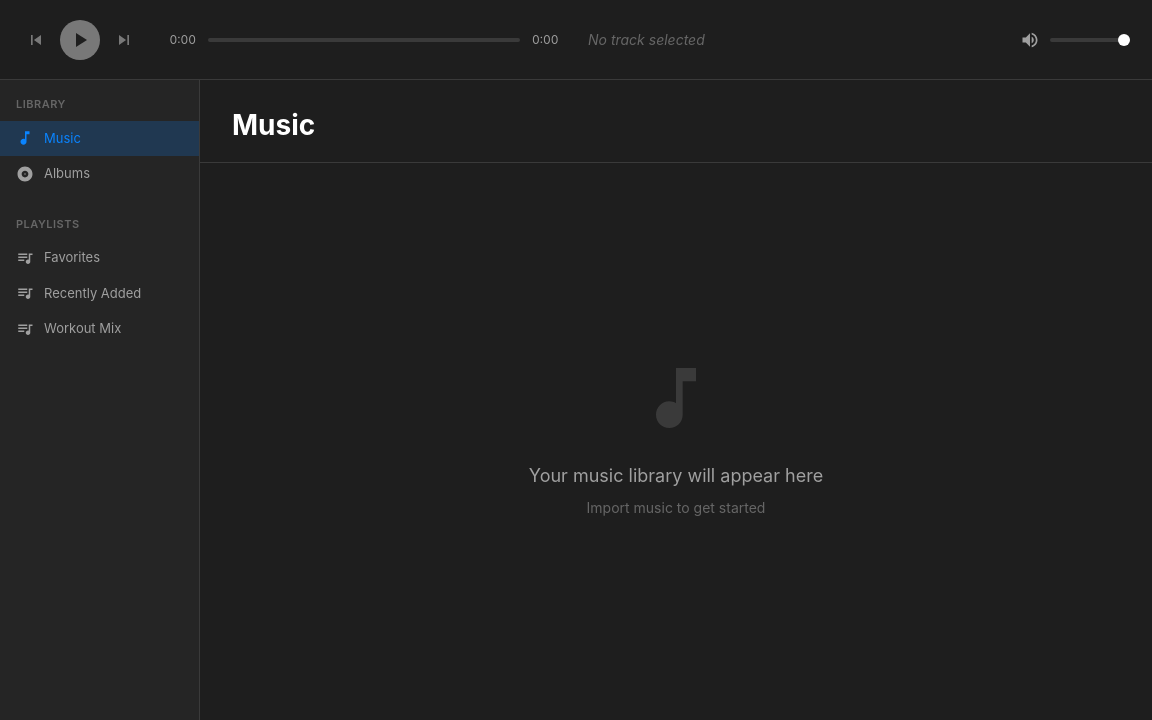
it: App Component › View Navigation › clicking Albums in sidebar changes main content
Click the button "Albums" at [53, 174], box x1=16 y1=165 x2=90 y2=183
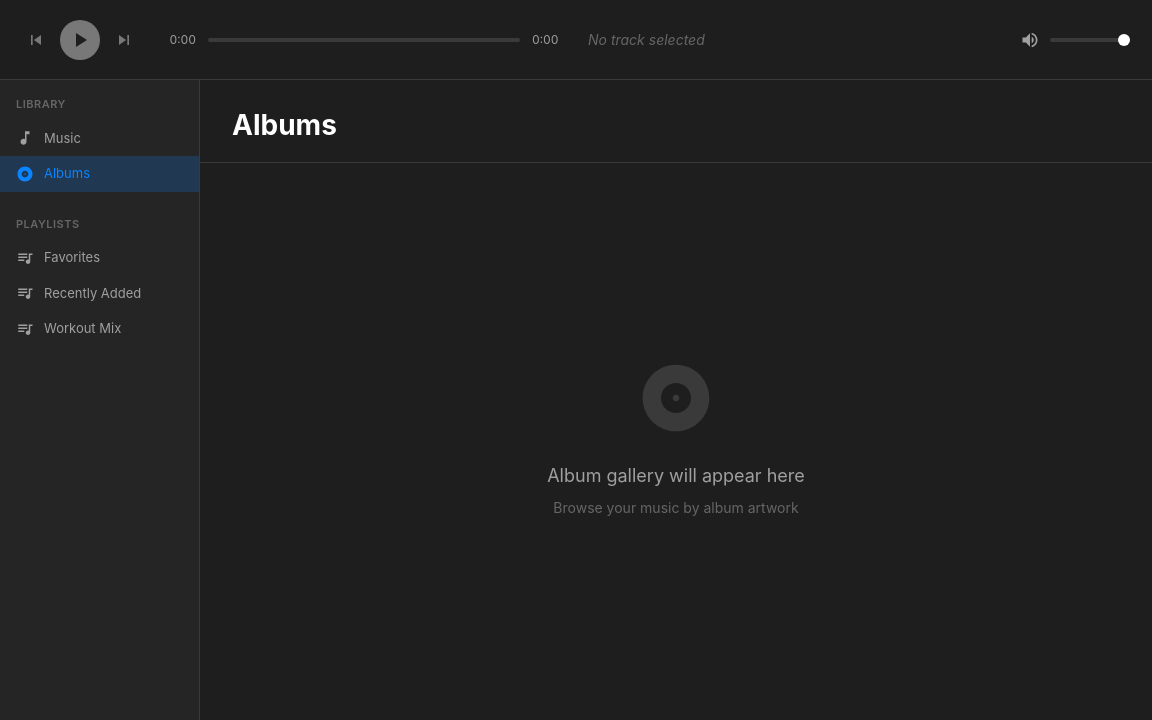
expect the heading "Albums" is shown: met, box x1=232 y1=104 x2=337 y2=146
